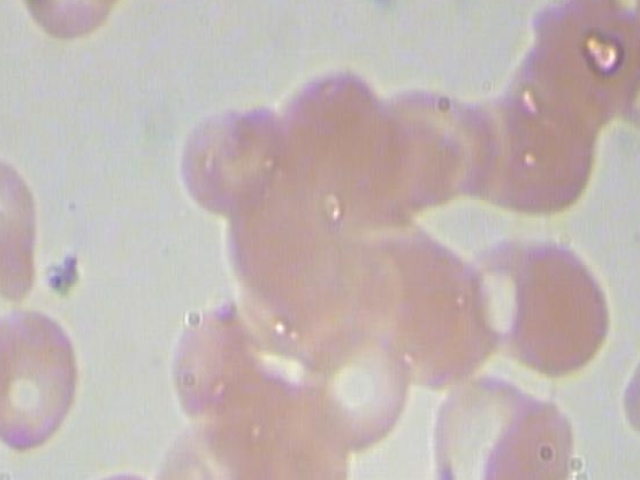Platelets: (335, 0, 529, 33)
RBC: (485, 226, 617, 384), (290, 307, 423, 457), (172, 87, 297, 222), (0, 296, 86, 459), (161, 294, 251, 427), (462, 387, 588, 480), (0, 144, 49, 306), (1, 0, 142, 51), (614, 317, 640, 460)
